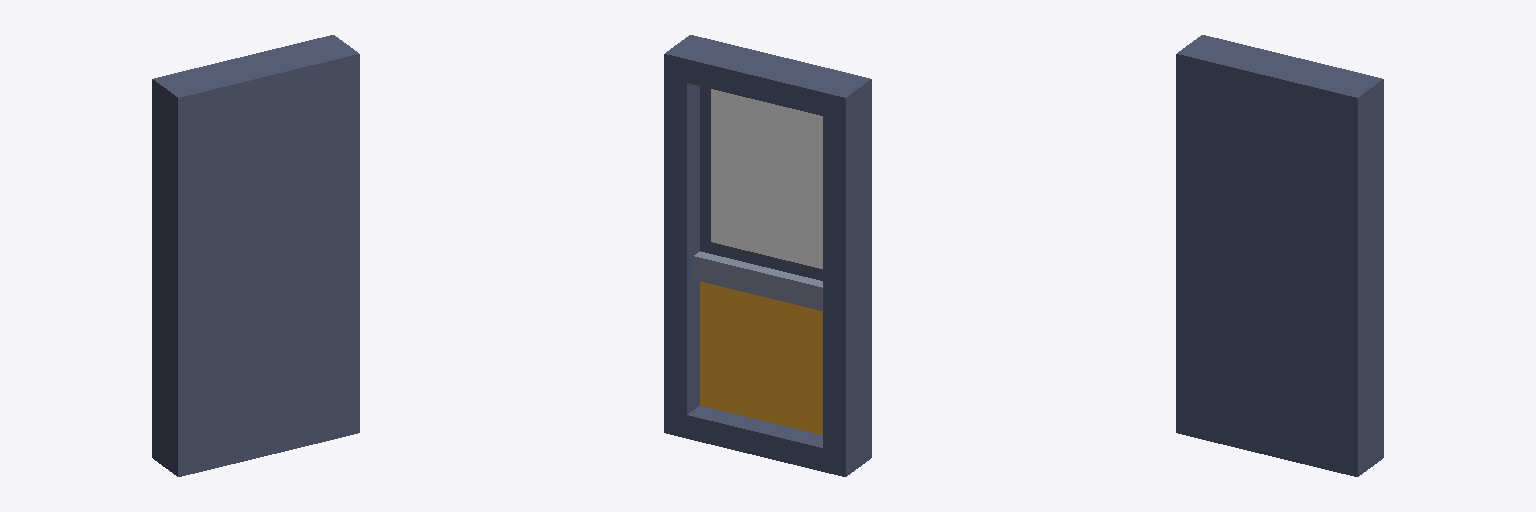
The model's file is door.obj.
3 renders of one model, left to right at view 1: azimuth 30°, elevation 25°; view 2: azimuth 150°, elevation 25°; view 3: azimuth 330°, elevation 25°, orthographic.
Parts seen in each view (by area): view 1: door; view 2: door; view 3: door.
Part boxes in pixels (left/top/right/bottom): door: left=152, top=35, right=359, bottom=476; door: left=664, top=35, right=871, bottom=476; door: left=1176, top=35, right=1383, bottom=476.
Size of the model in its own units: 0.8 by 1.6 by 0.2.